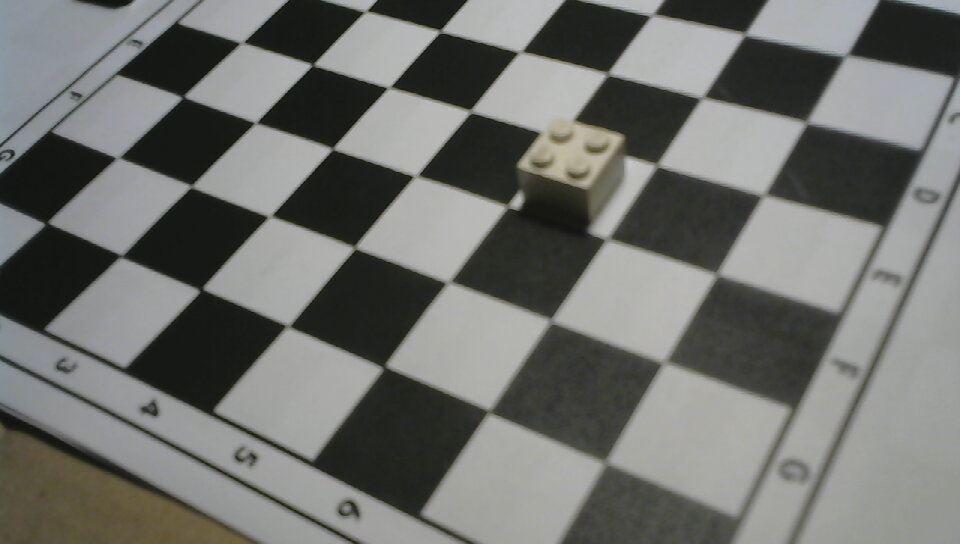wp: (510, 97, 639, 239)
